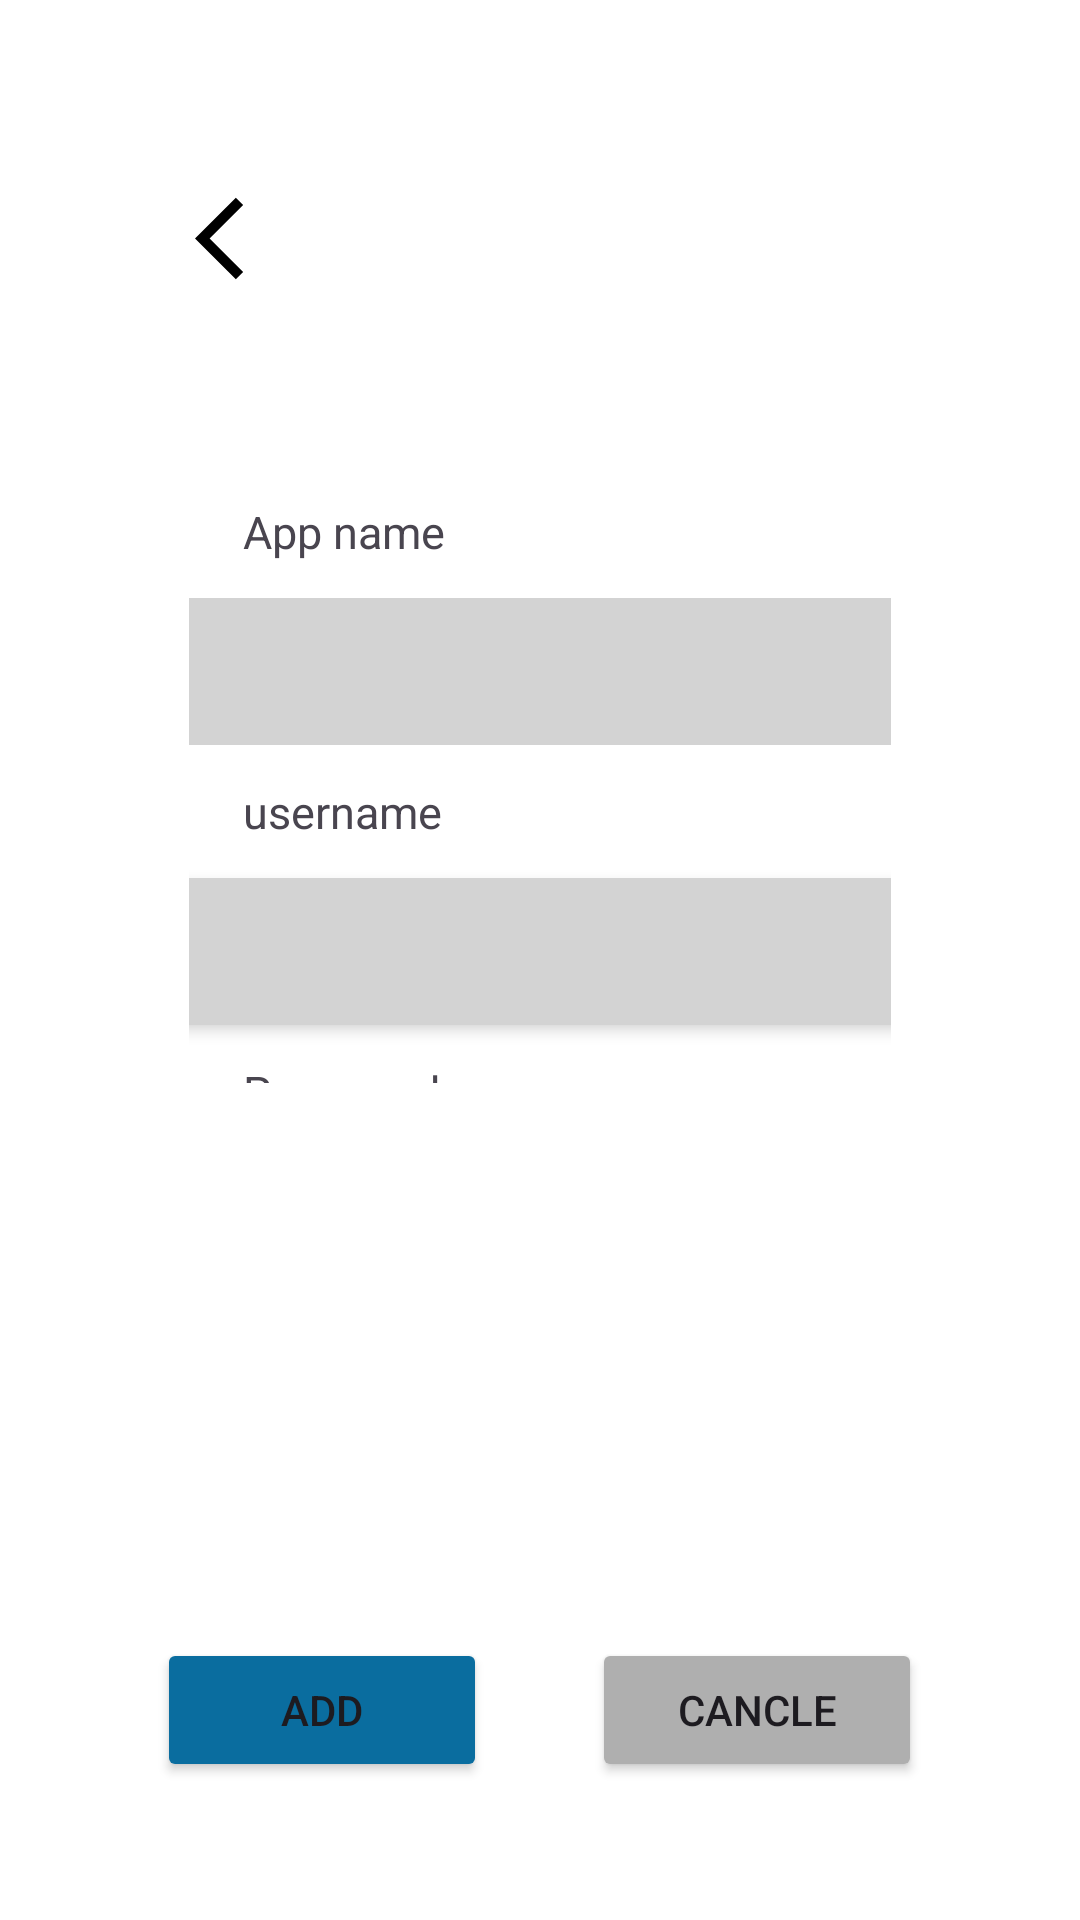

Where to tap for icons on this 1080×1920 app screen, as point (x, y):
arrow back: point (219, 238)
